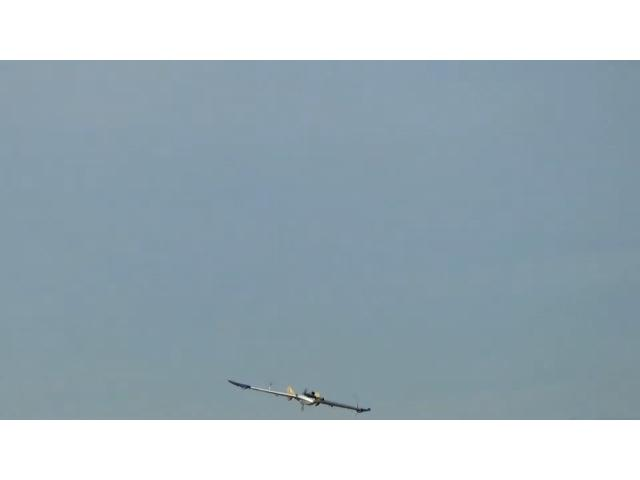Anti-Drone: (228, 380, 368, 412)
